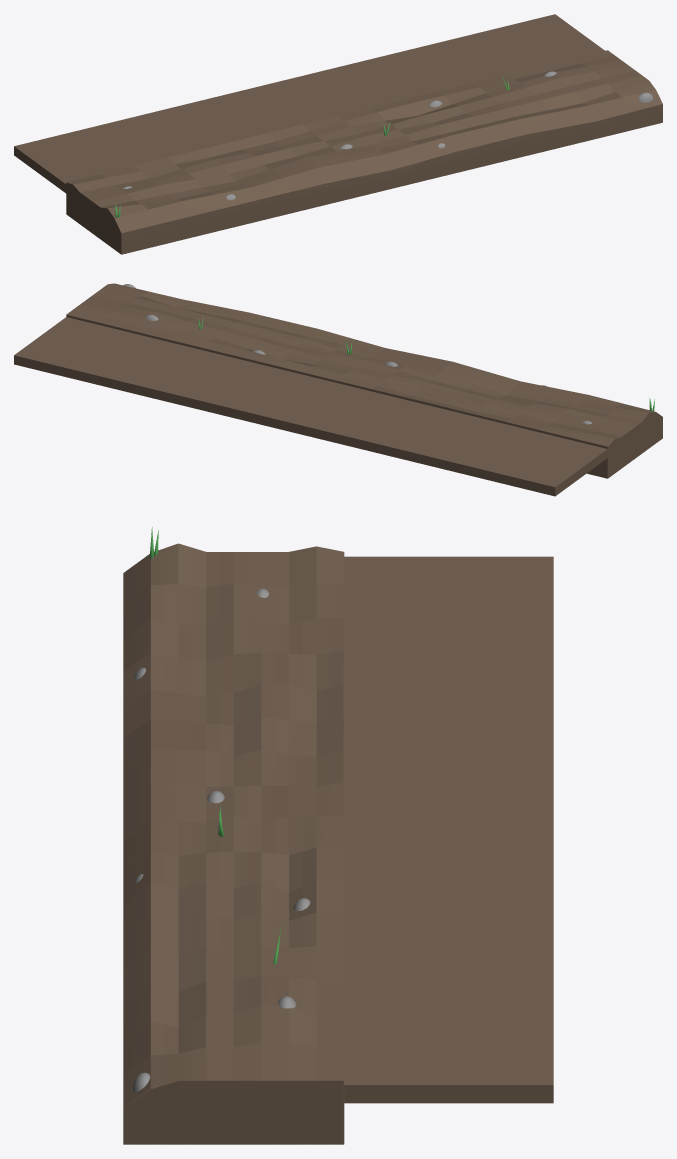
The model's file is DirtPathV1.fbx.
3 views of the same model, one above another, from view 1: azimuth 30°, elevation 25°; view 2: azimuth 150°, elevation 25°; view 3: azimuth 270°, elevation 25° (orthographic). The views are drawn at different scales.
Parts seen in each view (by area): view 1: pCube1, pCube2; view 2: pCube2, pCube1; view 3: pCube1, pCube2.
Boxes of the visible parts, x1,y1,x2,y2 form: pCube1: [66, 50, 662, 254]; pCube2: [14, 14, 604, 193]; pCube2: [14, 317, 607, 496]; pCube1: [66, 283, 662, 478]; pCube1: [123, 543, 344, 1144]; pCube2: [344, 556, 553, 1103].
Size of the model in its own units: 5.66 by 0.4991 by 1.95.
